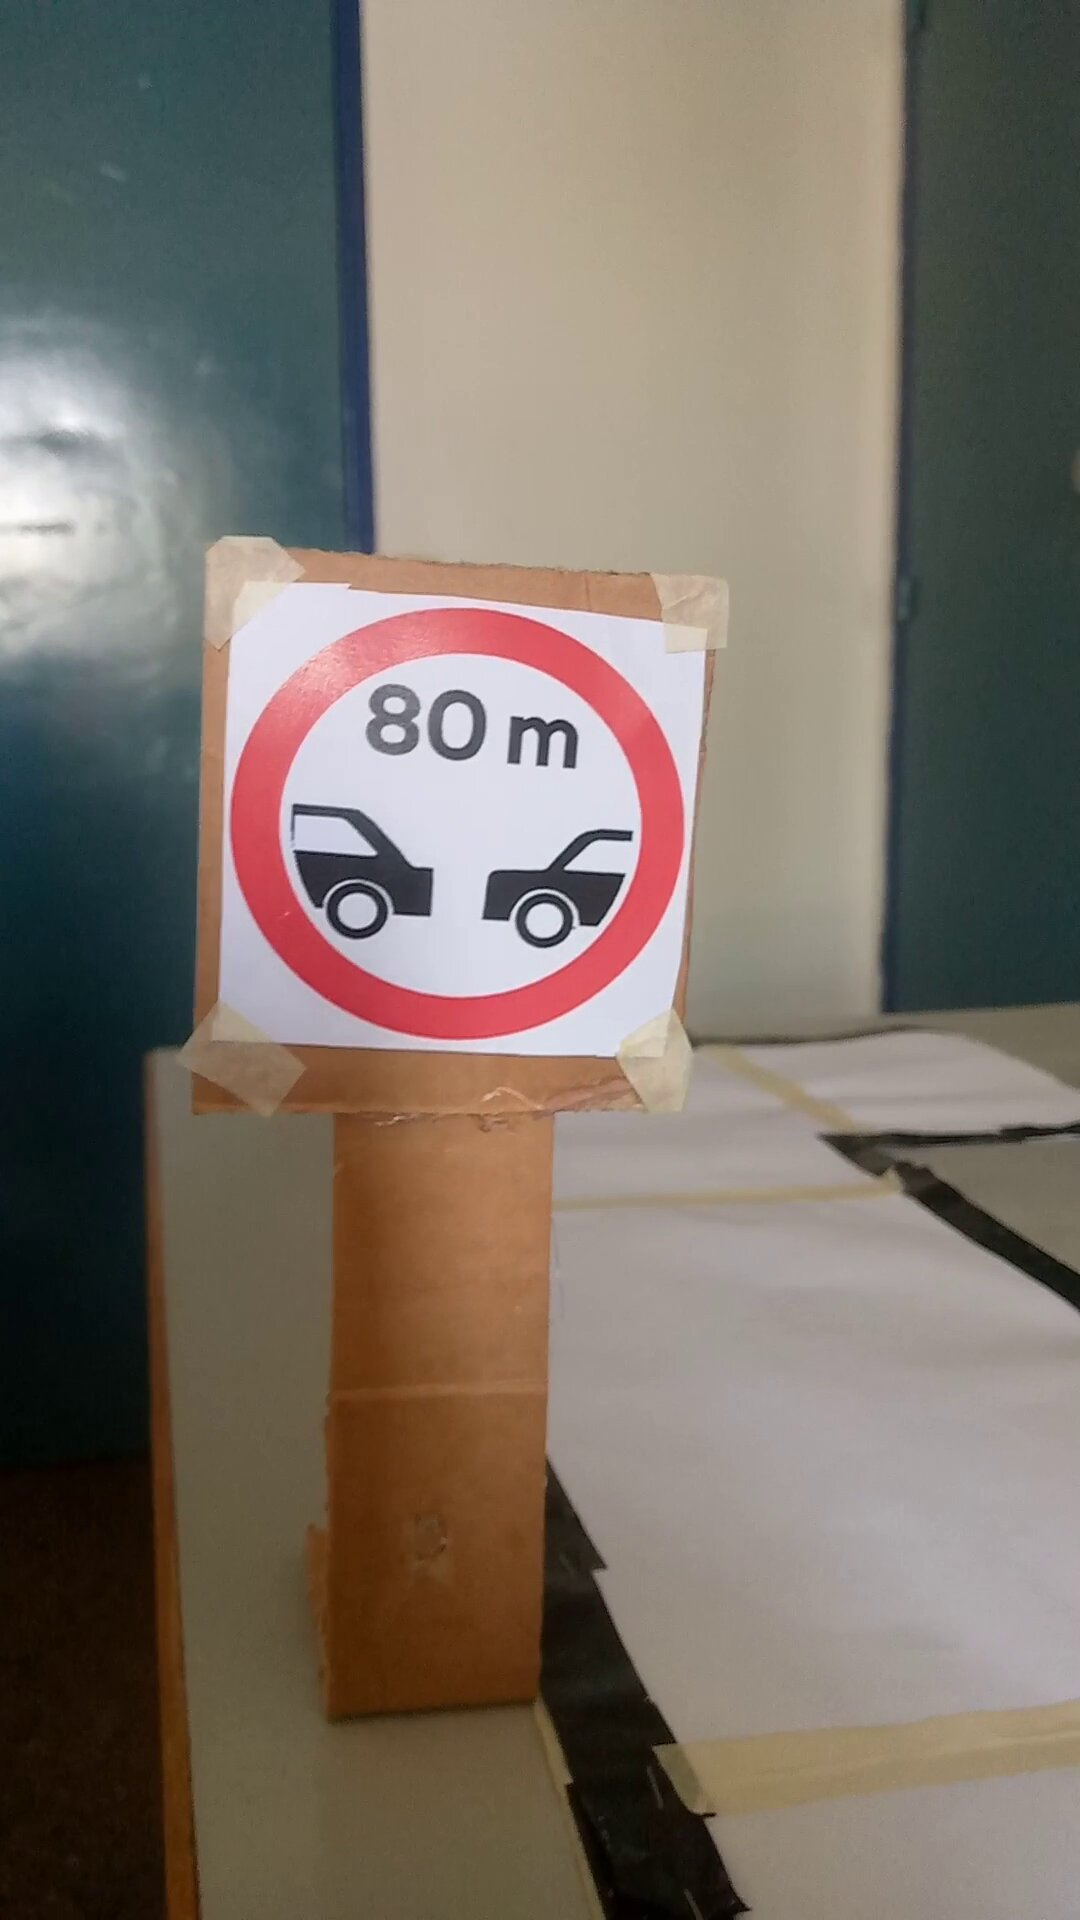panel001: (198, 541, 713, 1102)
